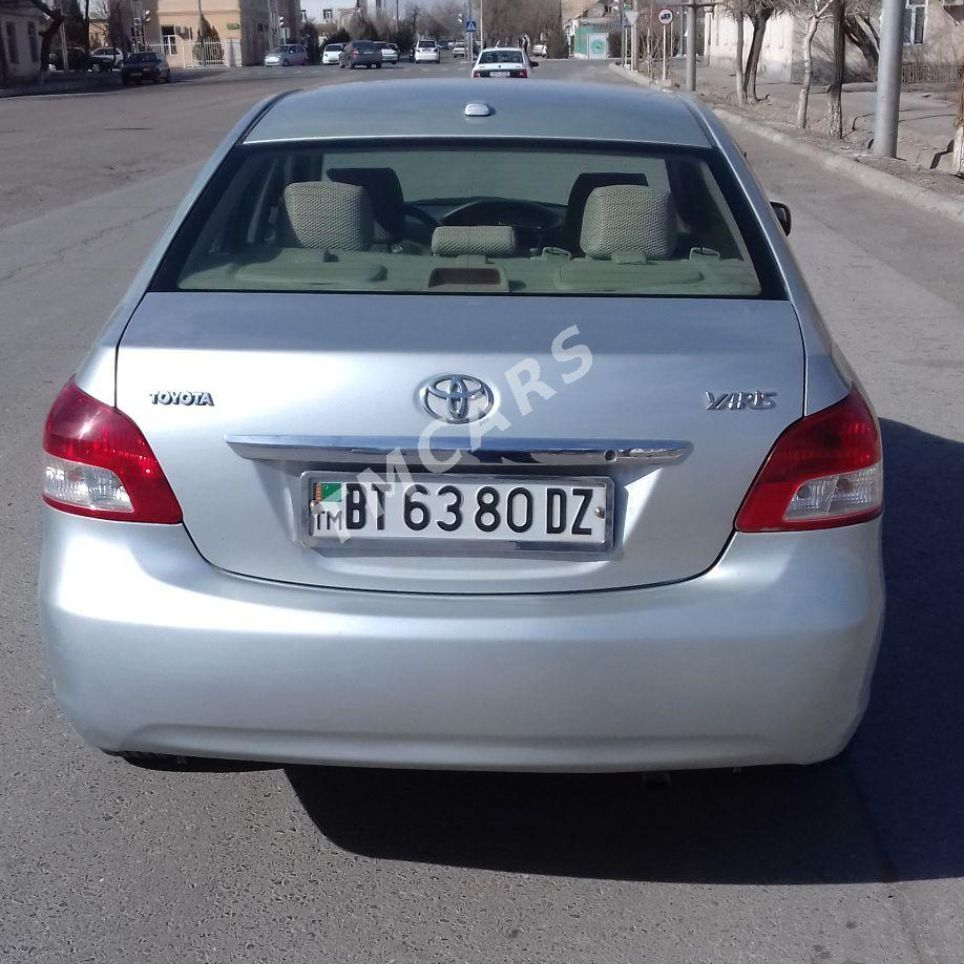license plate: (300, 471, 613, 549)
truck: (42, 76, 884, 771)
